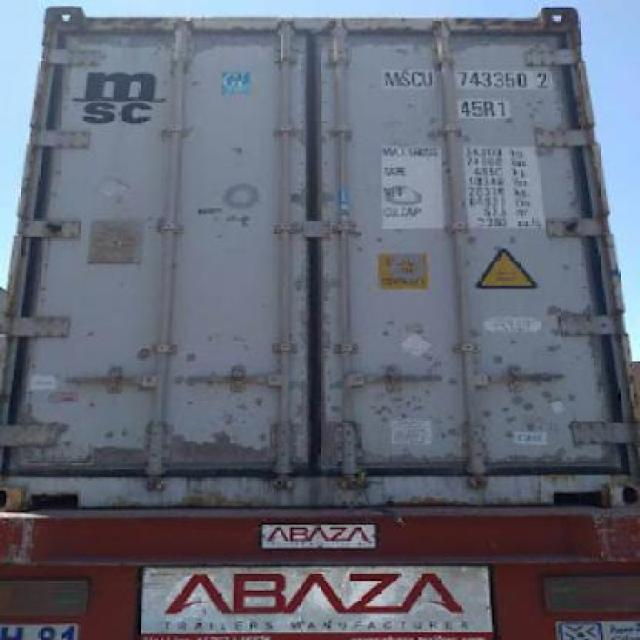ISO: (458, 99, 510, 118)
container_number: (384, 68, 552, 90)
